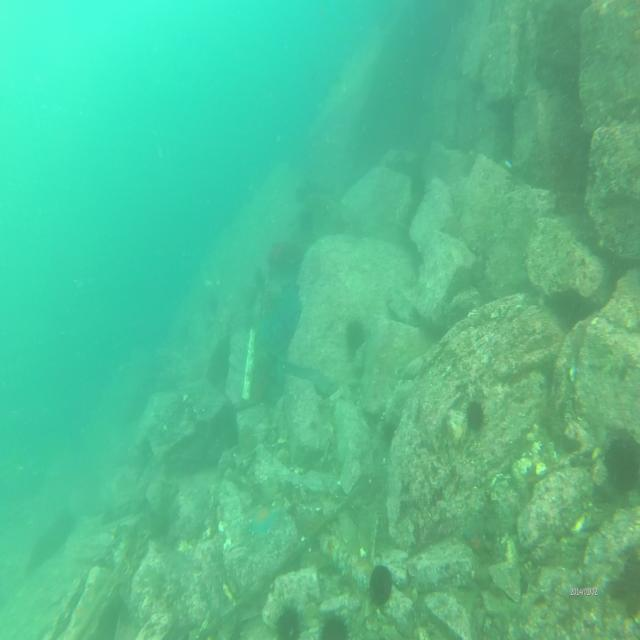echinus: (603, 430, 639, 491), (272, 599, 303, 640), (366, 559, 393, 605), (315, 608, 348, 640), (464, 398, 486, 436), (344, 317, 364, 351)
starfish: (249, 502, 278, 542)
